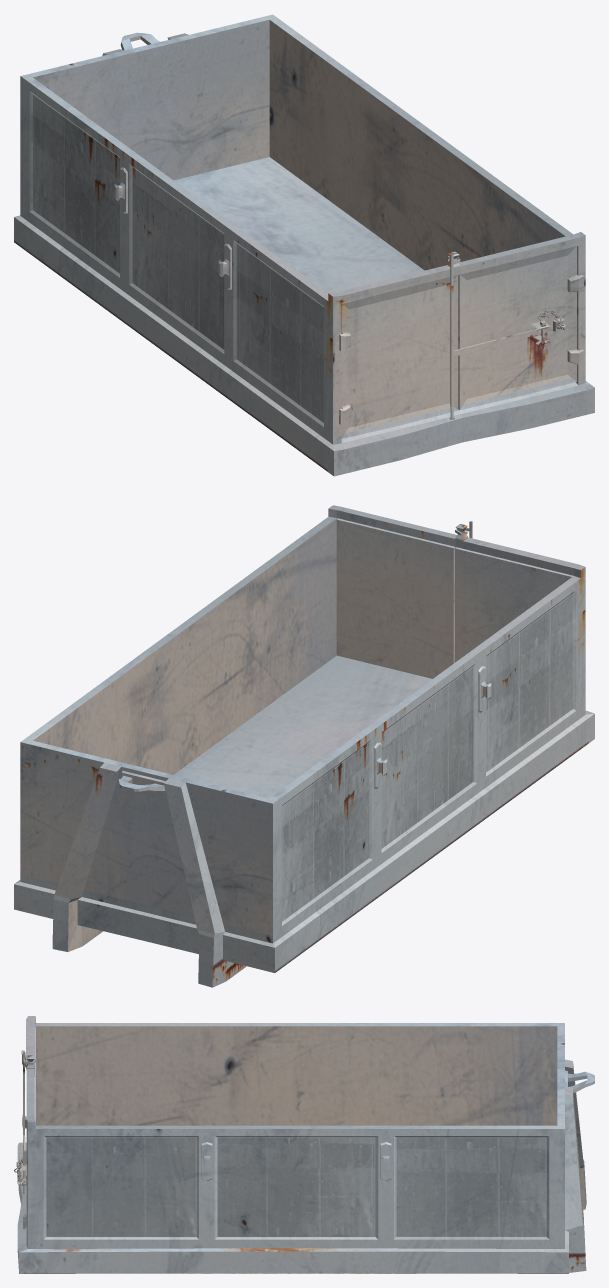
Rendered from rubble_container.glb.
3 renders of one model, top to bottom at view 1: azimuth 30°, elevation 25°; view 2: azimuth 150°, elevation 25°; view 3: azimuth 270°, elevation 25°, orthographic. The views are drawn at different scales.
Parts seen in each view (by area): view 1: Object_2; view 2: Object_2; view 3: Object_2.
Boxes of the visible parts, <box> form: Object_2: <box>14,14,594,476</box>; Object_2: <box>14,505,594,987</box>; Object_2: <box>14,1016,594,1273</box>.
Size of the model in its own units: 1.52 by 1.15 by 3.31.
1 material, 1 textured.
